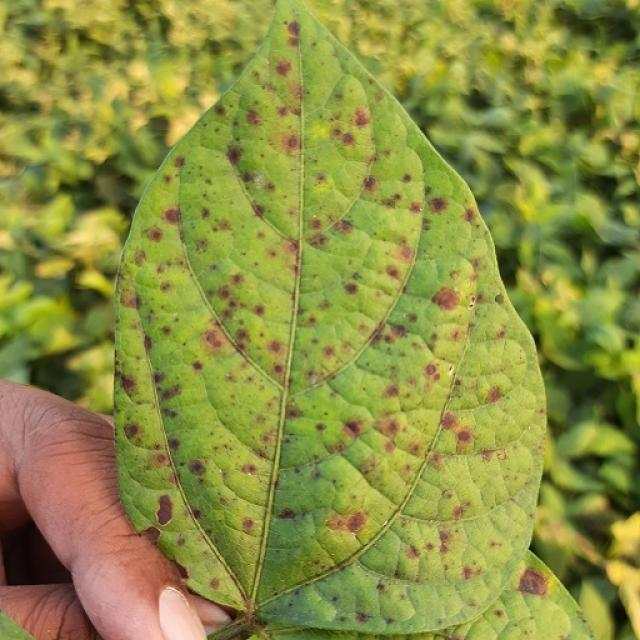Anthracnose: (429, 279, 465, 321), (517, 567, 548, 596), (154, 493, 174, 526), (307, 118, 333, 143), (201, 329, 228, 352), (346, 511, 368, 533), (440, 411, 459, 431), (163, 206, 181, 225), (353, 108, 371, 127), (344, 419, 363, 436), (274, 60, 292, 77), (485, 386, 502, 404), (146, 226, 164, 243), (188, 459, 206, 476), (429, 197, 448, 213), (250, 172, 267, 189), (245, 110, 262, 126), (123, 423, 140, 439), (287, 20, 301, 39), (405, 545, 420, 560), (227, 147, 241, 163), (241, 463, 258, 476), (278, 507, 296, 519), (241, 517, 255, 532), (438, 530, 451, 546), (286, 135, 300, 149), (363, 176, 377, 190), (341, 132, 355, 145), (344, 283, 359, 295), (355, 612, 370, 624), (424, 363, 437, 376), (253, 304, 266, 316), (209, 578, 220, 590), (494, 293, 504, 304), (492, 609, 503, 618)
Blackgram: (109, 1, 595, 639)
